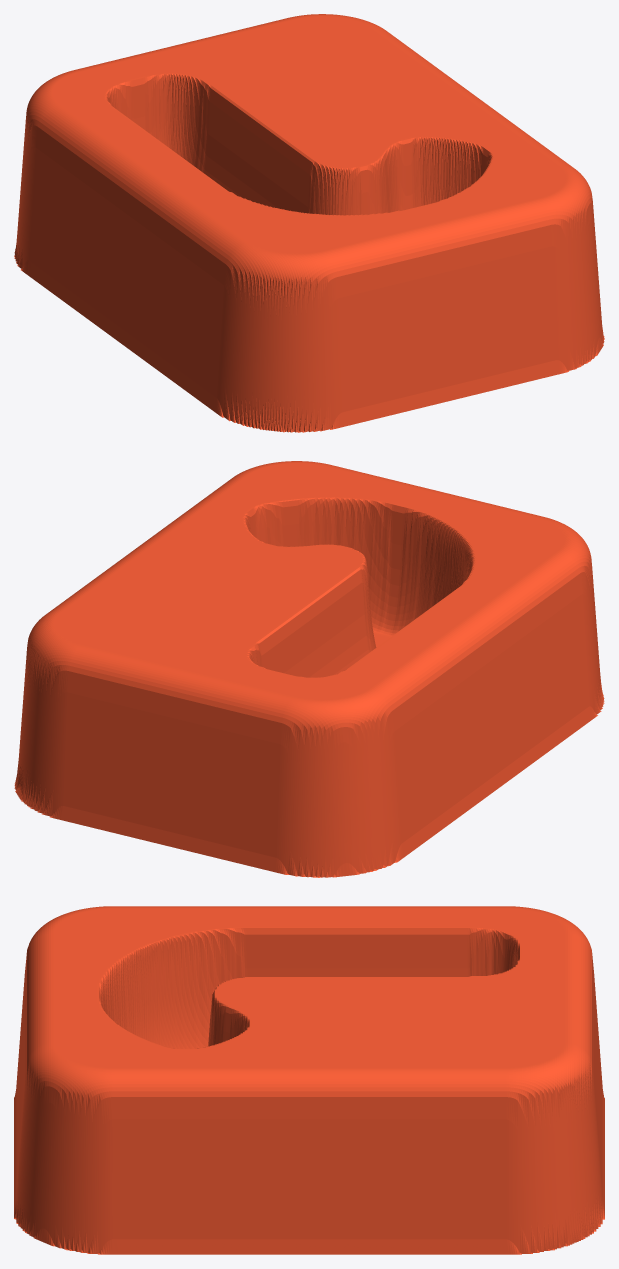
File: mold.glb
The picture shows the model from 3 angles, top to bottom: view 1: azimuth 30°, elevation 25°; view 2: azimuth 150°, elevation 25°; view 3: azimuth 270°, elevation 25°; orthographic projection. The views are drawn at different scales.
Visible parts, largest first — view 1: geometry_0; view 2: geometry_0; view 3: geometry_0.
Boxes of the visible parts, x1,y1,x2,y2 form: geometry_0: (14,14,604,432); geometry_0: (14,461,604,877); geometry_0: (14,906,604,1254).
Bounding box in the file's own units: 0.0418 × 0.0172 × 0.0542.
